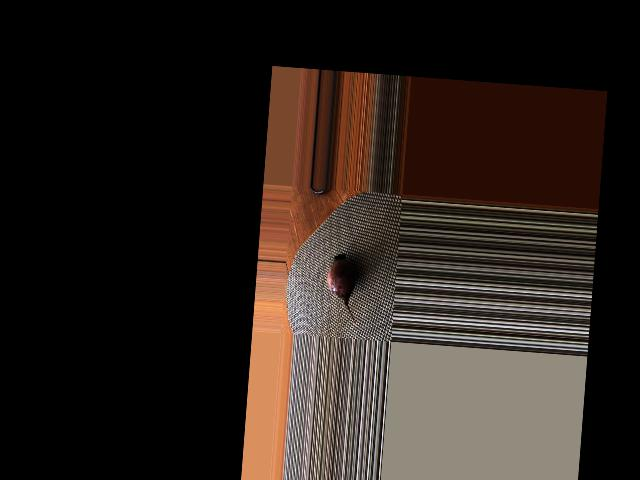beet: (323, 252, 364, 326)
